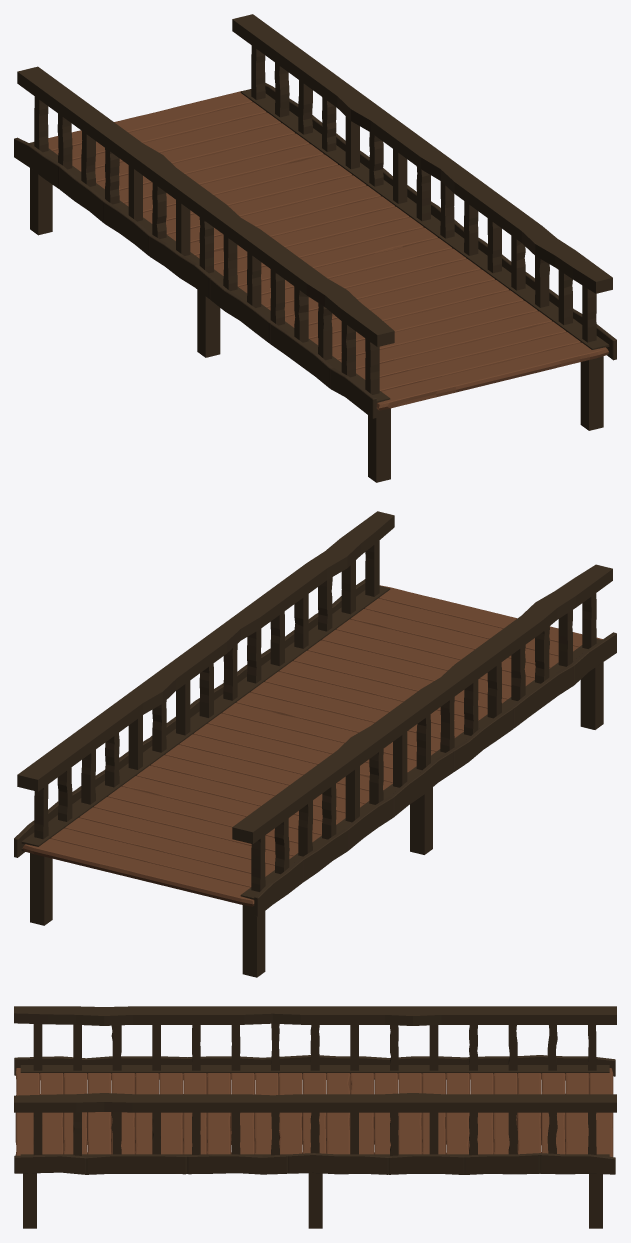
Rendered from Bridge.fbx.
3 renders of one model, top to bottom at view 1: azimuth 30°, elevation 25°; view 2: azimuth 150°, elevation 25°; view 3: azimuth 270°, elevation 25°, orthographic. The views are drawn at different scales.
Parts seen in each view (by area): view 1: Bridge; view 2: Bridge; view 3: Bridge.
Boxes of the visible parts, x1,y1,x2,y2 form: Bridge: [14, 14, 616, 482]; Bridge: [14, 511, 616, 977]; Bridge: [14, 1006, 616, 1228].
Size of the model in its own units: 494 by 295 by 1261.
